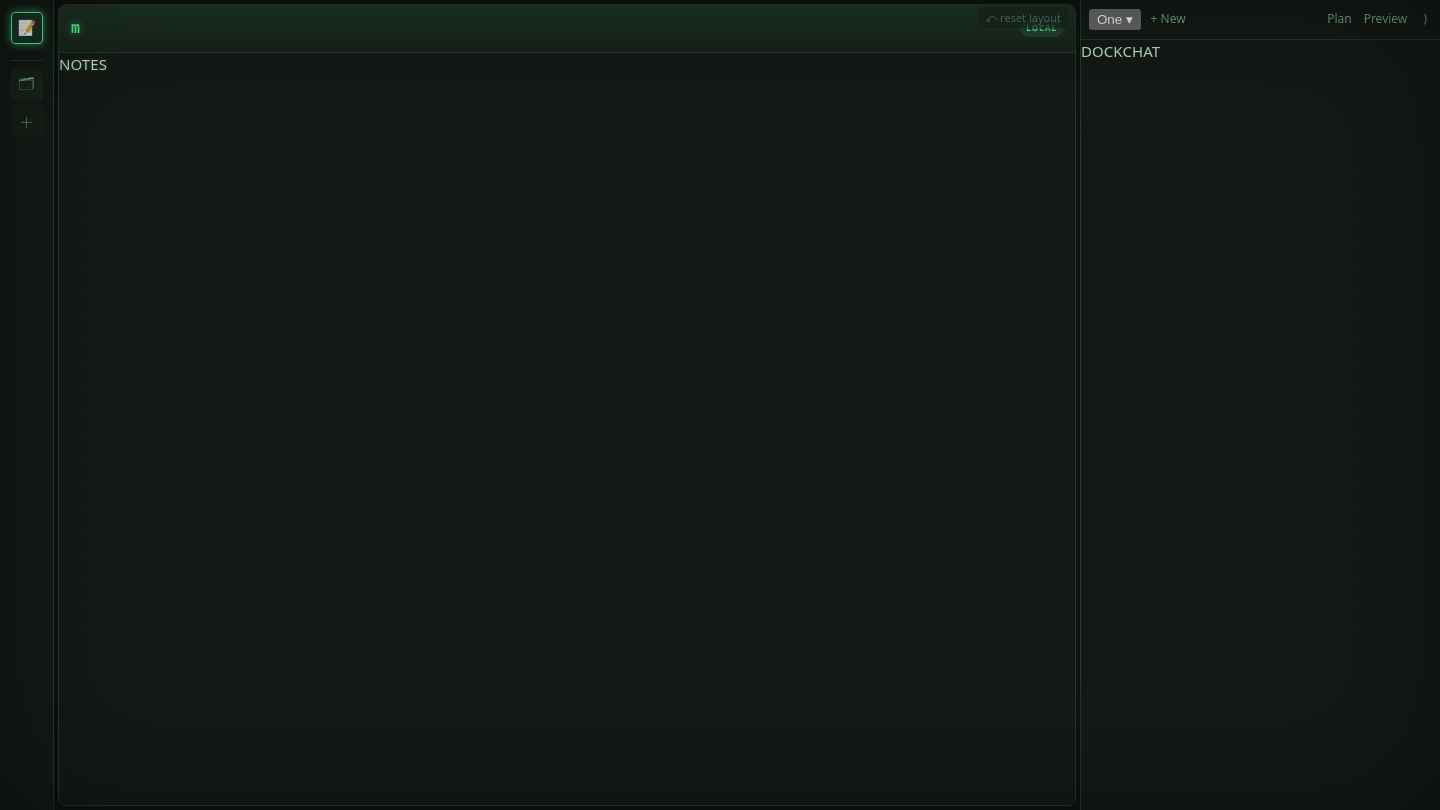
Test: WorkspaceShell with the Assistant dock › shows the dock over a composable view too
Click the button named "Editor". click: coordinates (26, 85)
box: top-left (10, 69), bottom-right (42, 101)
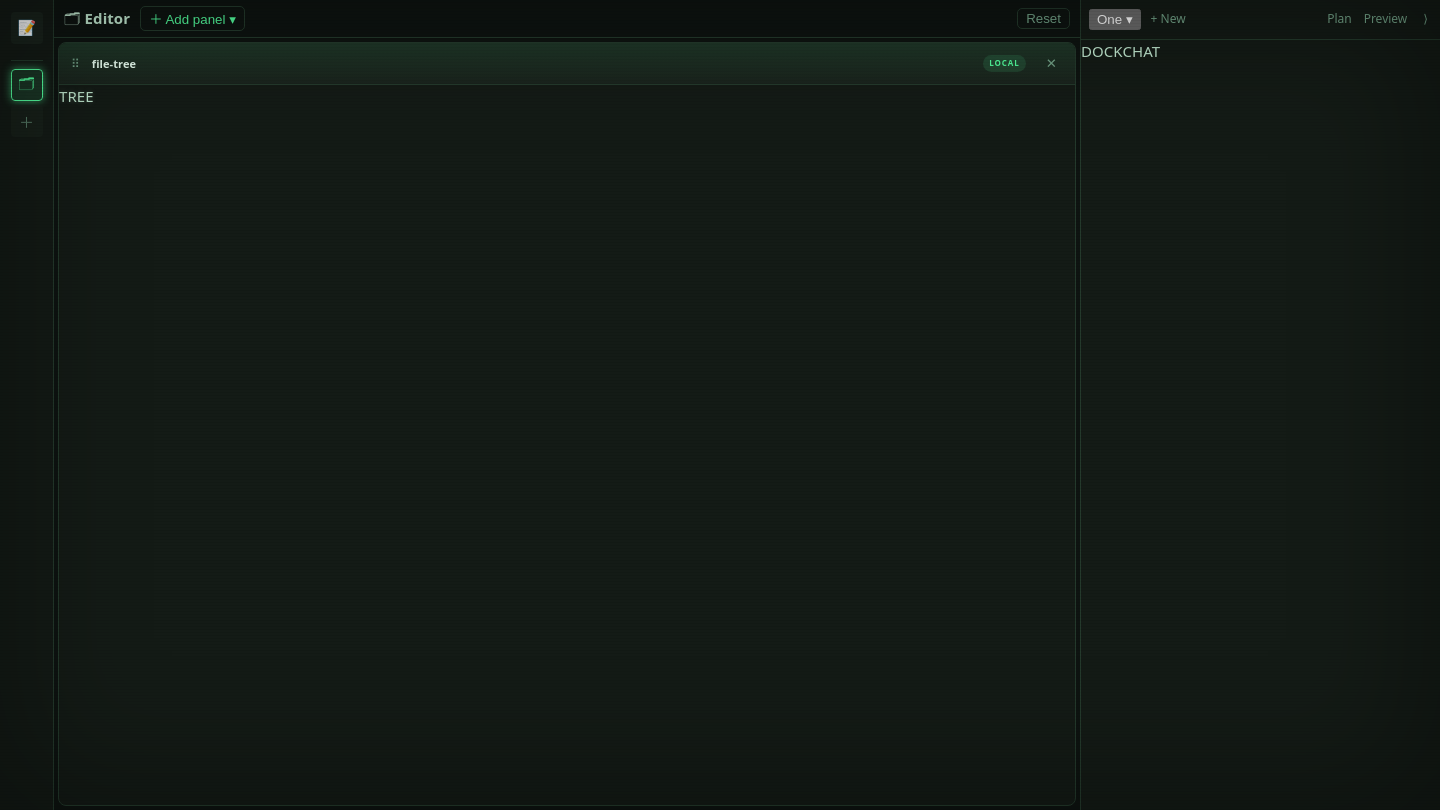
Expected: the text "DOCKCHAT" is shown, top-left (1081, 41), bottom-right (1160, 61)
Expected: the text "TREE" is shown, top-left (59, 86), bottom-right (94, 106)
